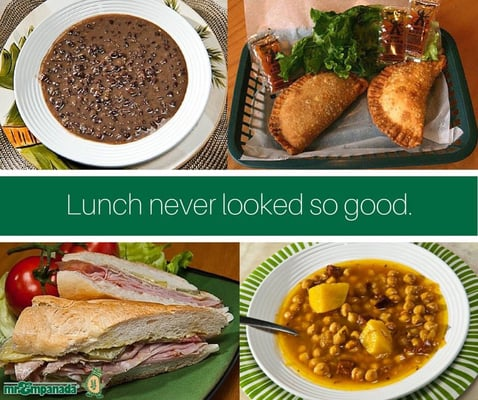salad: (239, 314, 314, 338)
soup: (267, 71, 369, 155), (366, 57, 448, 149)
sushi: (244, 241, 470, 396), (13, 4, 214, 167)
